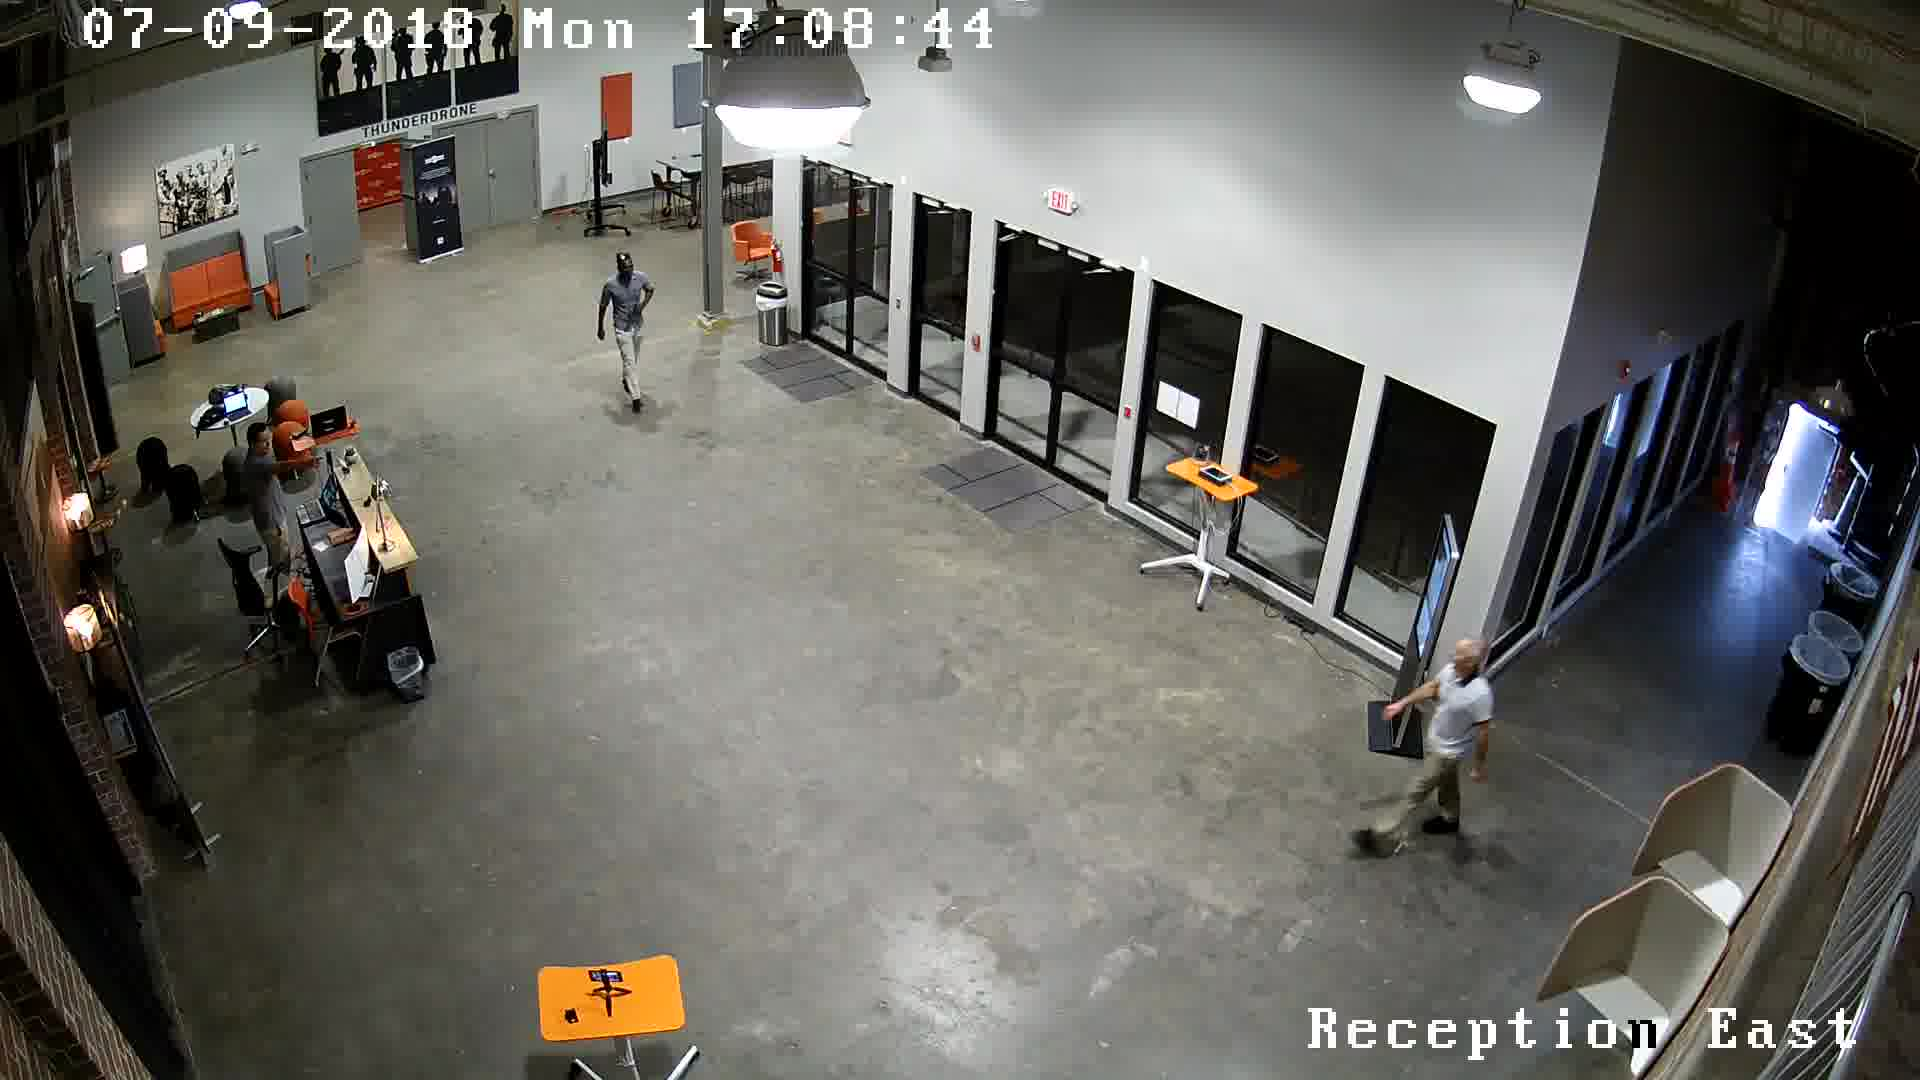pistol: (615, 297, 658, 342)
